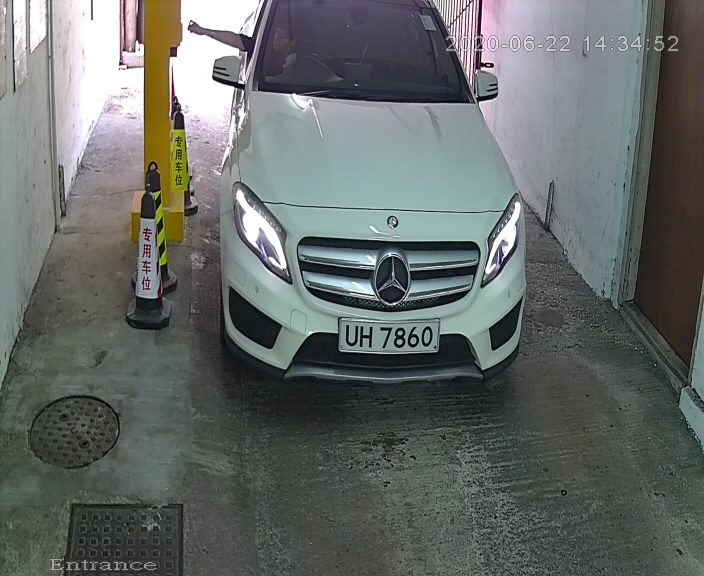privatecar: (178, 2, 545, 410)
